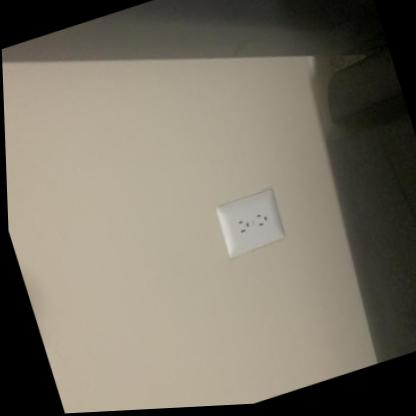OUTLET: (211, 186, 288, 261)
